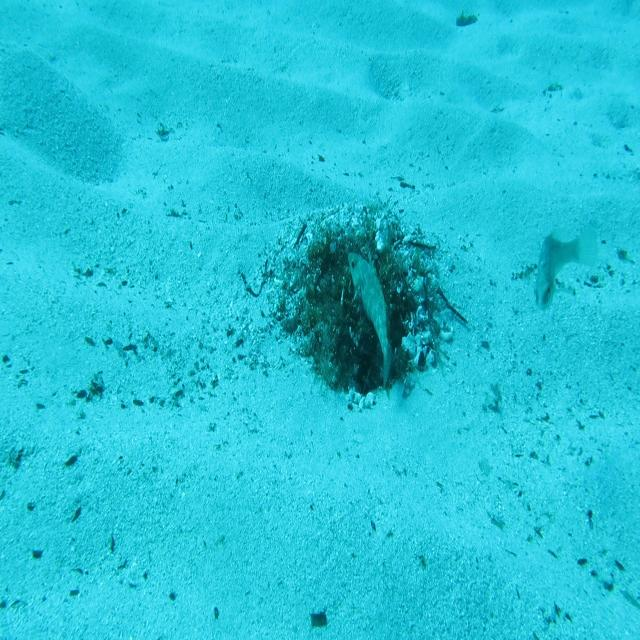FAN: (345, 248, 396, 393)
core_nest: (327, 244, 375, 291)
female: (529, 218, 603, 318)
nest: (263, 192, 460, 430)
vegetation: (455, 10, 478, 30), (310, 610, 329, 630)
